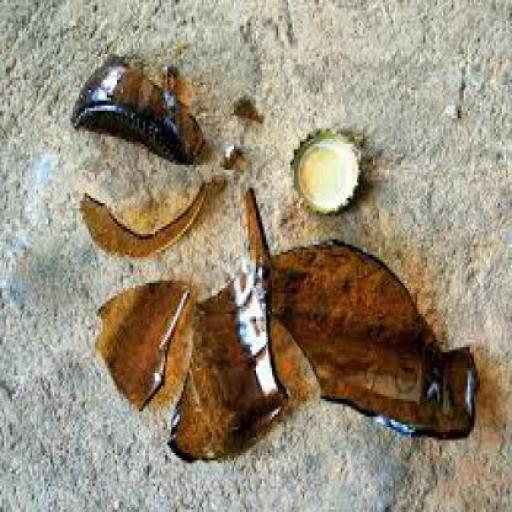glass: (248, 185, 482, 440), (172, 254, 292, 466), (73, 54, 208, 154), (98, 278, 194, 409), (83, 172, 226, 255), (236, 90, 264, 124), (222, 139, 244, 167), (164, 62, 181, 88)
metal: (292, 126, 365, 214)
